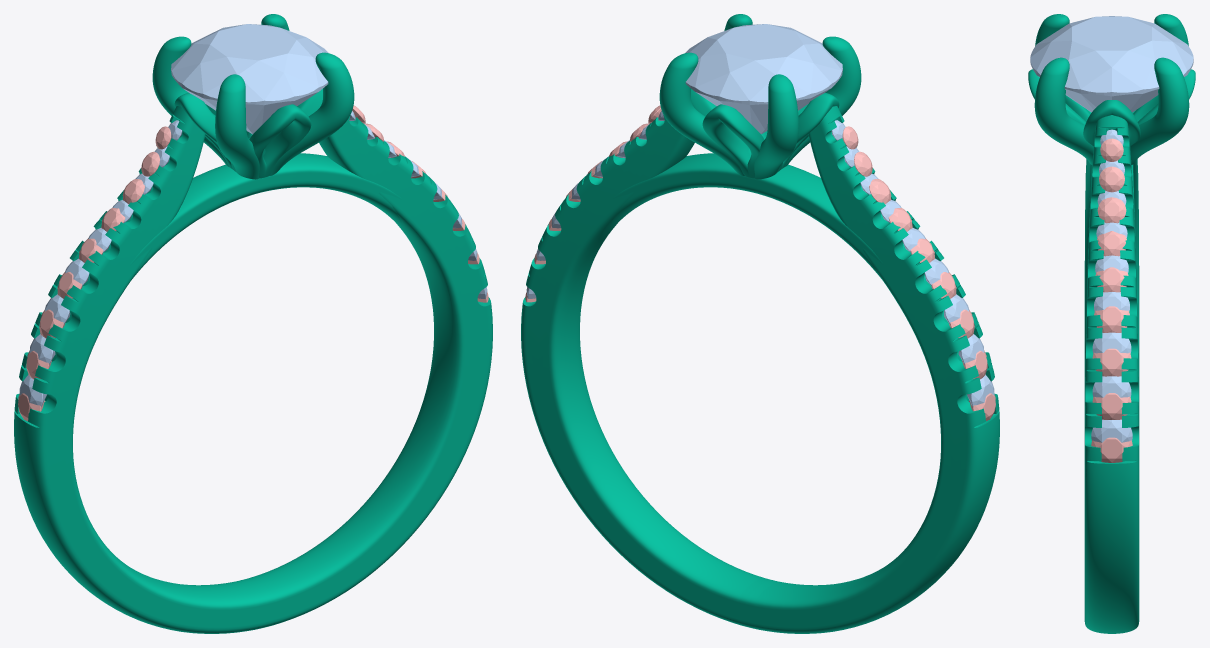
The picture shows the model from 3 angles, left to right: view 1: azimuth 30°, elevation 25°; view 2: azimuth 150°, elevation 25°; view 3: azimuth 270°, elevation 25°; orthographic projection.
Parts seen in each view (by area): view 1: JTC 13402(front).3dm, Diamond_Round; view 2: JTC 13402(front).3dm, Diamond_Round; view 3: JTC 13402(front).3dm, Diamond_Round (×16).
Part boxes in pixels (x1,y1,x2,y2): JTC 13402(front).3dm: (14,14,492,633); Diamond_Round: (171,24,328,134); JTC 13402(front).3dm: (521,14,999,633); Diamond_Round: (685,24,842,134); JTC 13402(front).3dm: (1028,14,1195,633); Diamond_Round (×16): (1030,16,1193,462).
Size of the model in its own units: 2.51 by 3.01 by 0.7941.
